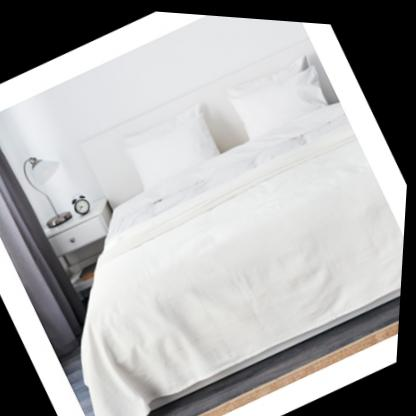Bed: (46, 18, 415, 415)
